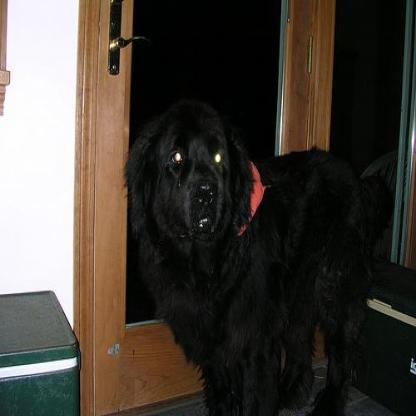Newfoundland: (122, 94, 380, 414)
